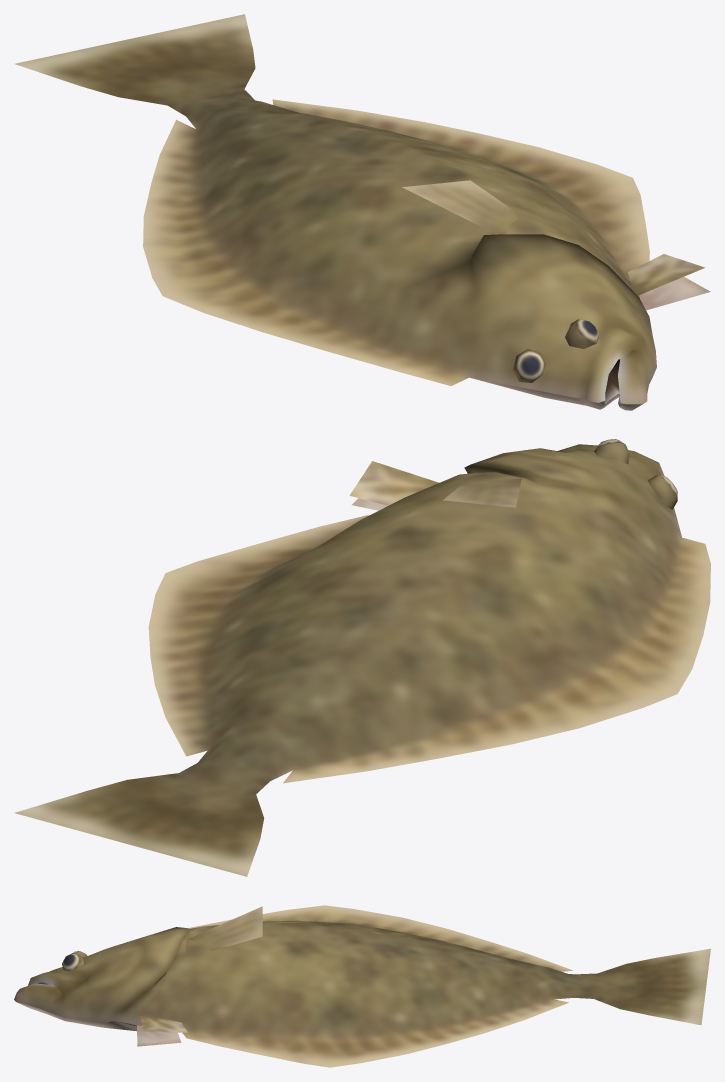
The model's file is olive-flounder.glb.
3 views of the same model, one above another, from view 1: azimuth 30°, elevation 25°; view 2: azimuth 150°, elevation 25°; view 3: azimuth 270°, elevation 25° (orthographic). The views are drawn at different scales.
Parts seen in each view (by area): view 1: FishHirame__mHirame; view 2: FishHirame__mHirame; view 3: FishHirame__mHirame.
Part boxes in pixels (bbox=[...]): FishHirame__mHirame: bbox=[15, 14, 710, 410]; FishHirame__mHirame: bbox=[15, 439, 710, 876]; FishHirame__mHirame: bbox=[14, 905, 710, 1067].
Size of the model in its own units: 7.33 by 2.19 by 13.3.
Materials: 1 (1 with a texture image).
